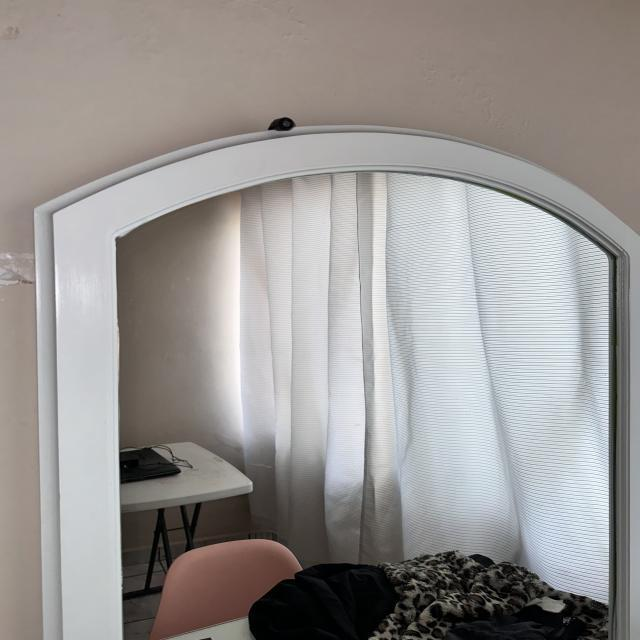hidden camera: (281, 118, 294, 129)
